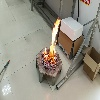fire: (44, 17, 61, 65)
